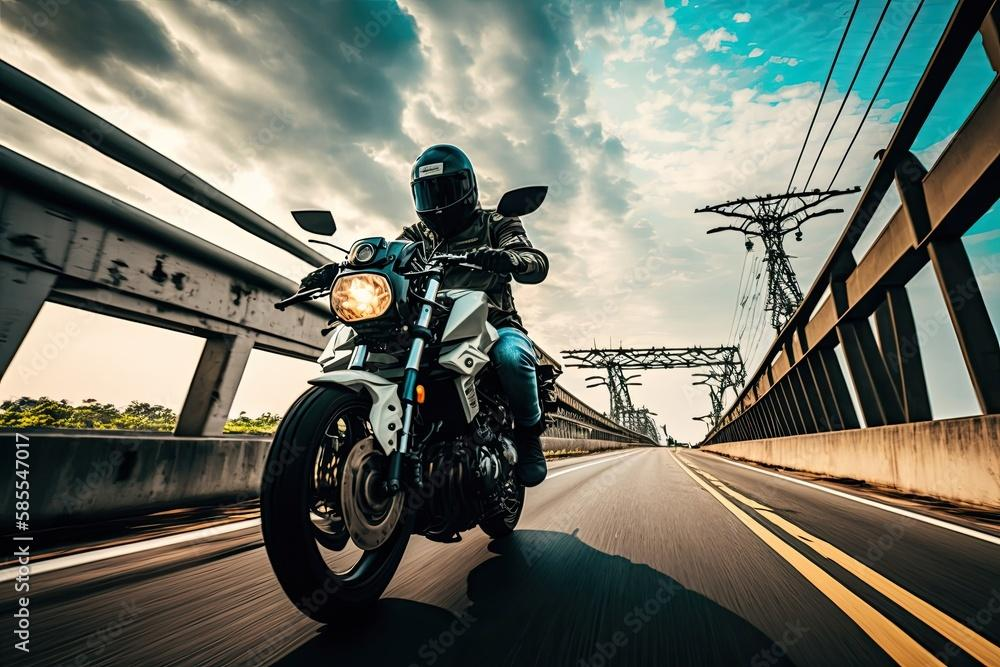helmet: (409, 143, 479, 233)
